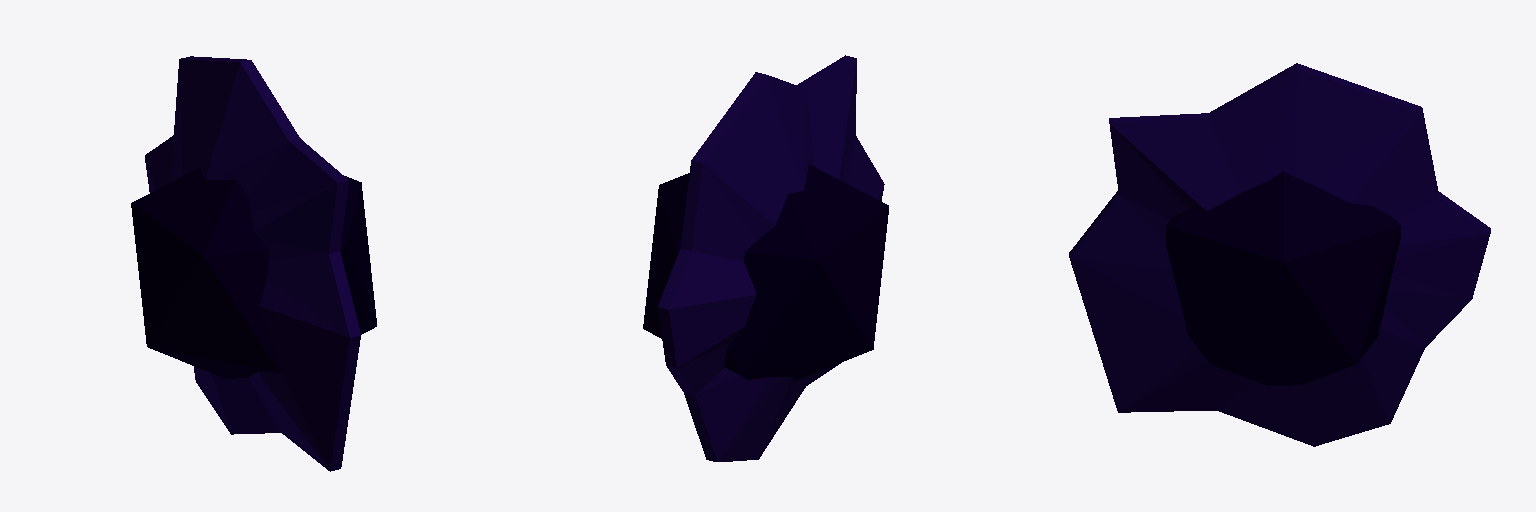
File: VoidOrb.obj
3 renders of one model, left to right at view 1: azimuth 30°, elevation 25°; view 2: azimuth 150°, elevation 25°; view 3: azimuth 270°, elevation 25°, orthographic.
Visible parts, largest first — view 1: Void; view 2: Void; view 3: Void.
Boxes of the visible parts, x1=… form: Void: x1=131, y1=56, x2=376, y2=471; Void: x1=643, y1=55, x2=888, y2=461; Void: x1=1069, y1=63, x2=1490, y2=446.
Bounding box in the file's own units: 1.57 × 2.64 × 2.66.